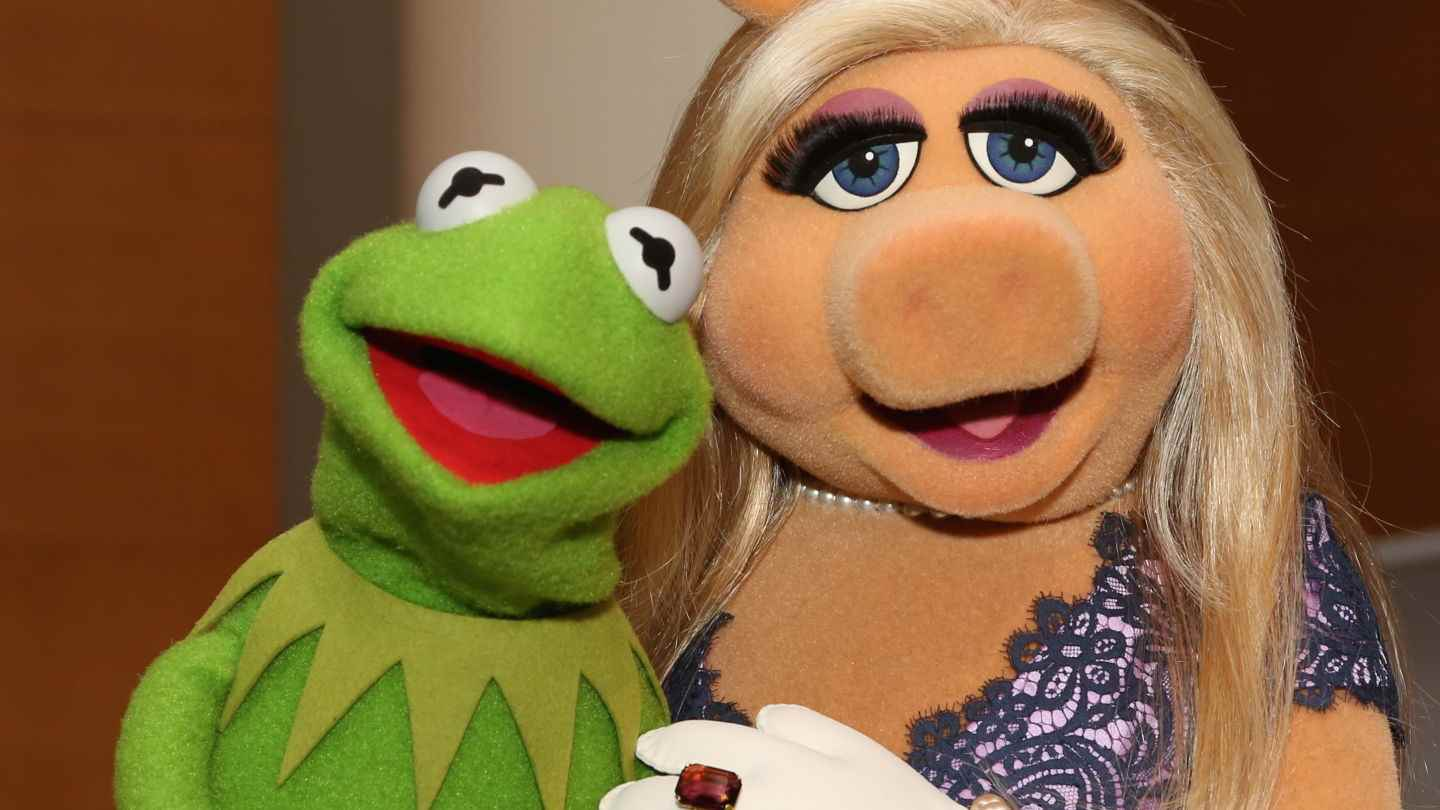kermit: (278, 142, 733, 619)
